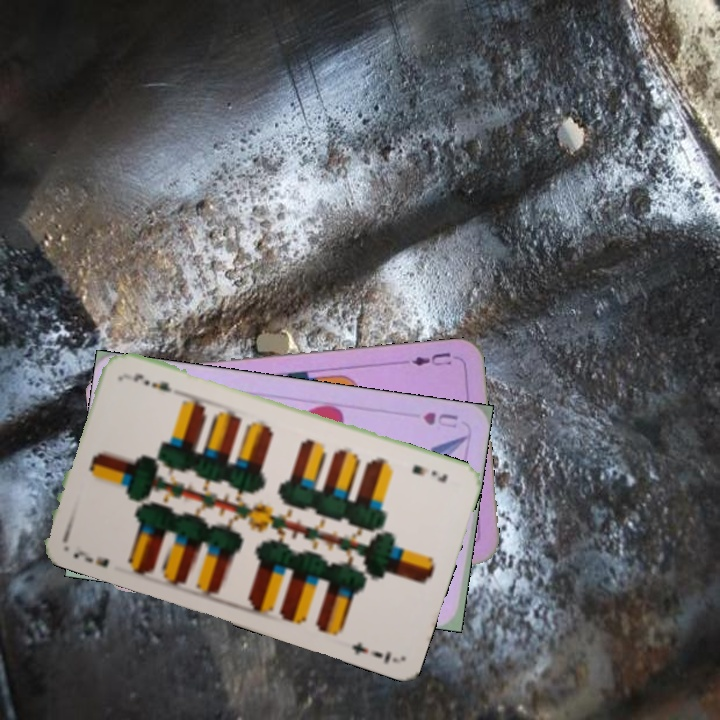E7: (68, 546, 112, 570), (408, 461, 450, 485)
EU: (407, 349, 453, 369)
HU: (418, 408, 461, 431)
